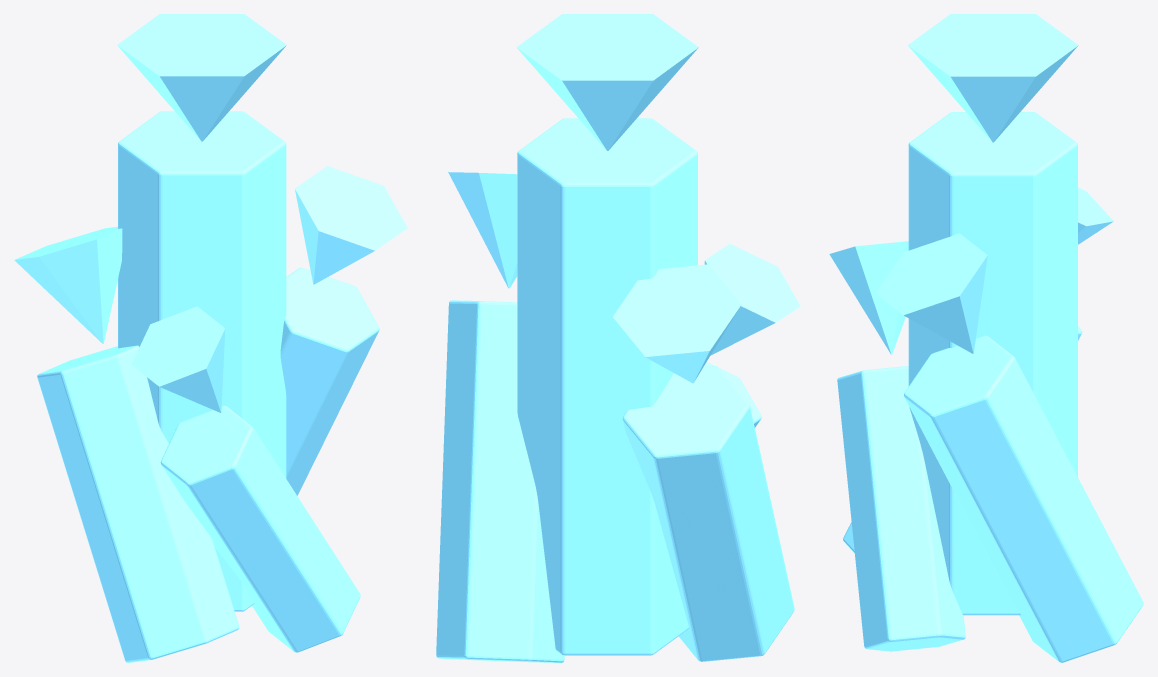
Rendered from star-crystal.glb.
The picture shows the model from 3 angles, left to right: view 1: azimuth 30°, elevation 25°; view 2: azimuth 150°, elevation 25°; view 3: azimuth 270°, elevation 25°; orthographic projection. The views are drawn at different scales.
Visible parts, largest first — view 1: Cylinder, Cylinder.002, Cylinder.003, Cylinder.001, Cone, Cone.001, Cone.002, Cone.003; view 2: Cylinder, Cylinder.001, Cylinder.002, Cone, Cone.002, Cone.003, Cone.001; view 3: Cylinder, Cylinder.001, Cylinder.003, Cone, Cone.001, Cone.003, Cone.002.
Part boxes in pixels (left/top/right/bottom): Cylinder: left=118, top=111, right=286, bottom=611; Cylinder.002: left=37, top=345, right=239, bottom=662; Cylinder.003: left=160, top=406, right=360, bottom=652; Cylinder.001: left=280, top=267, right=379, bottom=495; Cone: left=117, top=14, right=286, bottom=141; Cone.001: left=295, top=166, right=407, bottom=284; Cone.002: left=14, top=226, right=122, bottom=343; Cone.003: left=131, top=306, right=225, bottom=412; Cylinder: left=517, top=118, right=697, bottom=655; Cylinder.001: left=436, top=300, right=564, bottom=662; Cylinder.002: left=622, top=366, right=794, bottom=661; Cone: left=516, top=14, right=698, bottom=150; Cone.002: left=613, top=264, right=741, bottom=383; Cone.003: left=704, top=244, right=800, bottom=355; Cone.001: left=448, top=172, right=517, bottom=288; Cylinder: left=908, top=112, right=1077, bottom=615; Cylinder.001: left=904, top=335, right=1143, bottom=662; Cylinder.003: left=837, top=366, right=965, bottom=651; Cone: left=908, top=14, right=1078, bottom=142; Cone.001: left=875, top=233, right=987, bottom=353; Cone.003: left=829, top=241, right=908, bottom=354; Cone.002: left=1078, top=187, right=1113, bottom=244.
Bounding box in the file's own units: 0.9345 × 1.68 × 0.8178.
